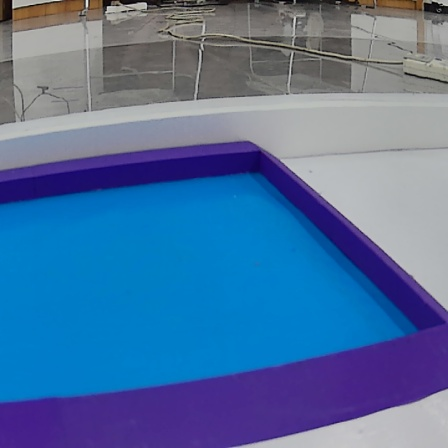blue_aim: (1, 140, 448, 448)
